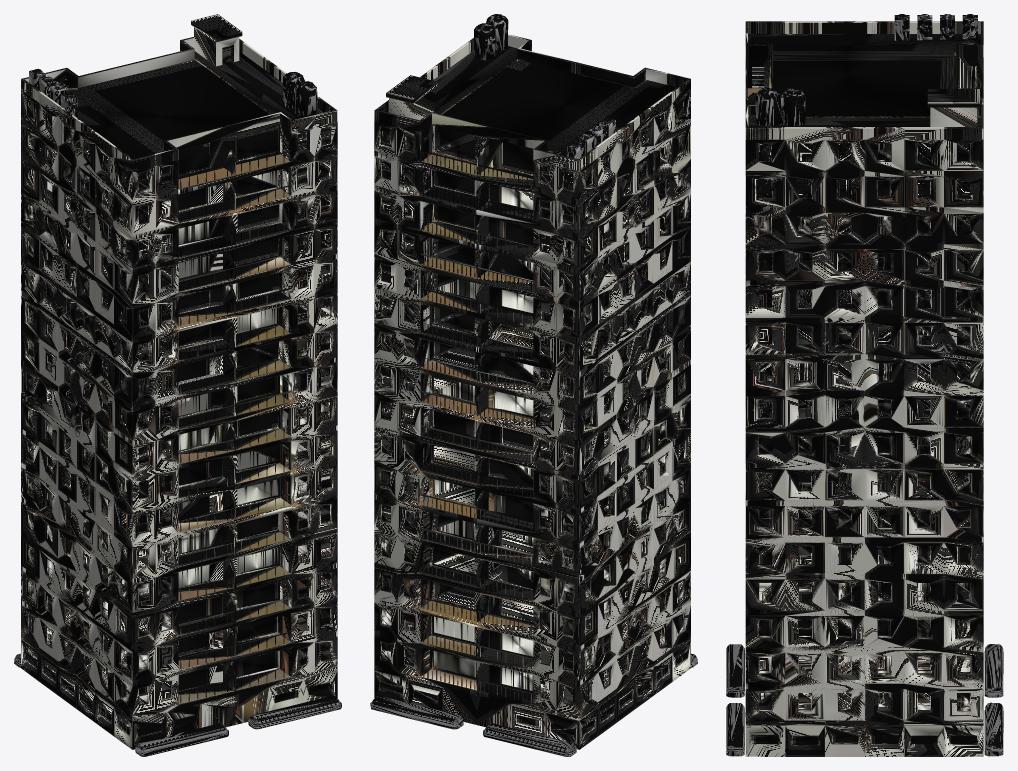
The model's file is tower_c.glb.
The picture shows the model from 3 angles, left to right: view 1: azimuth 30°, elevation 25°; view 2: azimuth 150°, elevation 25°; view 3: azimuth 270°, elevation 25°; orthographic projection. The views are drawn at different scales.
Visible parts, largest first — view 1: Cube.001, bush.002, tank.002, AC units.006; view 2: Cube.001, bush.002, tank.002, AC units.006; view 3: Cube.001, bush.002, tank.002, AC units.006.
Part boxes in pixels (left/top/right/bottom): Cube.001: left=21, top=14, right=337, bottom=749; bush.002: left=14, top=622, right=341, bottom=756; tank.002: left=282, top=72, right=317, bottom=117; AC units.006: left=29, top=68, right=78, bottom=116; Cube.001: left=374, top=34, right=690, bottom=749; bush.002: left=370, top=623, right=697, bottom=756; tank.002: left=474, top=14, right=508, bottom=60; AC units.006: left=553, top=118, right=615, bottom=158; Cube.001: left=745, top=21, right=983, bottom=756; bush.002: left=726, top=644, right=1003, bottom=756; tank.002: left=755, top=87, right=805, bottom=126; AC units.006: left=894, top=14, right=979, bottom=44.
Bounding box in the file's own units: 18.12 × 52 × 19.91.
Materials: 4 (4 with a texture image).
